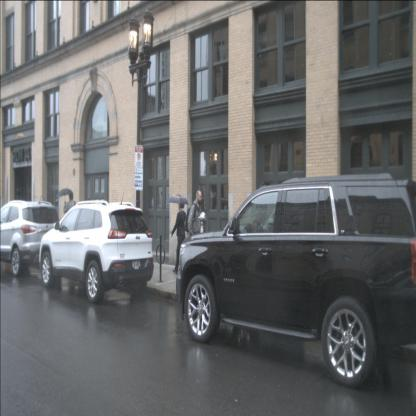human-pedestrian-adult: (185, 190, 206, 280), (168, 194, 188, 275), (57, 187, 78, 254)
vehicle-car: (176, 178, 416, 390), (38, 203, 154, 304), (0, 200, 61, 277)
